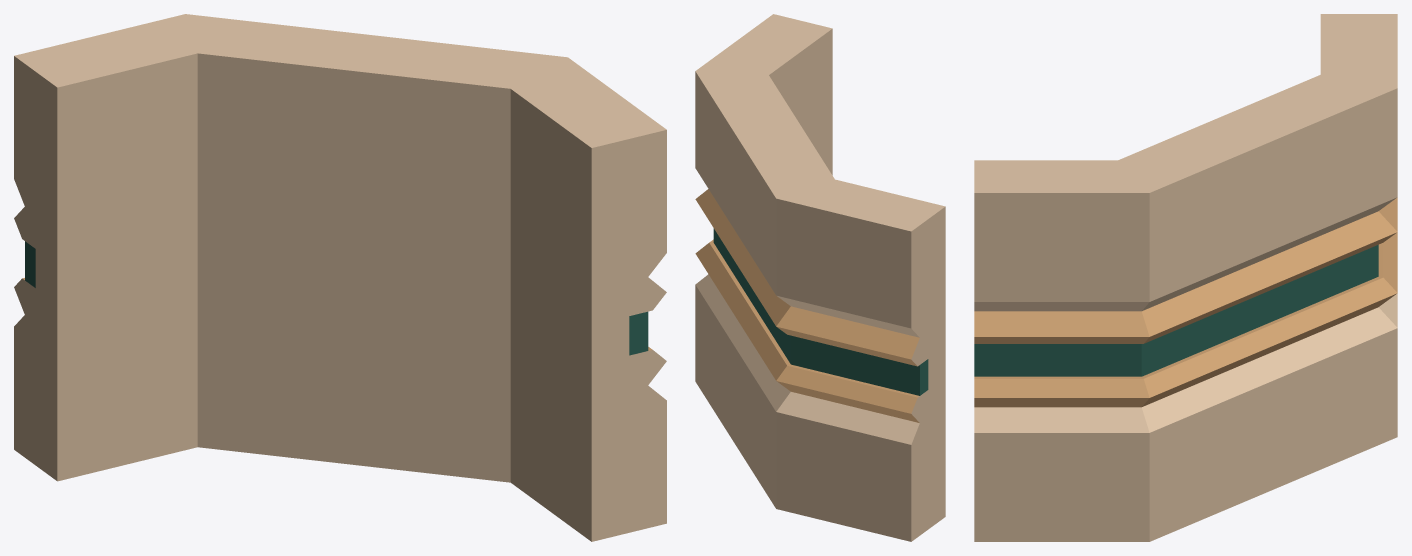
The model's file is Puzzle_Wall_Conduit_Path_Curved_Small_Outer.obj.
The picture shows the model from 3 angles, left to right: view 1: azimuth 30°, elevation 25°; view 2: azimuth 150°, elevation 25°; view 3: azimuth 270°, elevation 25°; orthographic projection. The views are drawn at different scales.
Parts seen in each view (by area): view 1: object2, object1; view 2: object2, object1; view 3: object2, object1.
Boxes of the visible parts, bbox=[...] form: object2: bbox=[14, 14, 666, 541]; object1: bbox=[25, 241, 648, 355]; object2: bbox=[695, 14, 945, 541]; object1: bbox=[713, 228, 928, 395]; object2: bbox=[974, 14, 1397, 541]; object1: bbox=[974, 245, 1378, 376].
Size of the model in its own units: 1.1 by 1 by 1.1.
